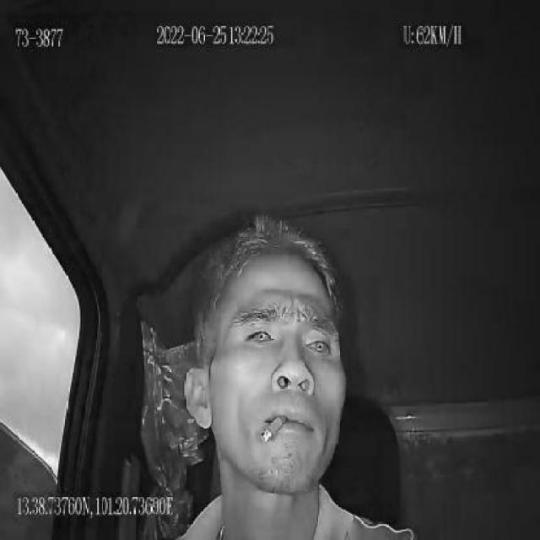smoking: (261, 415, 287, 446)
